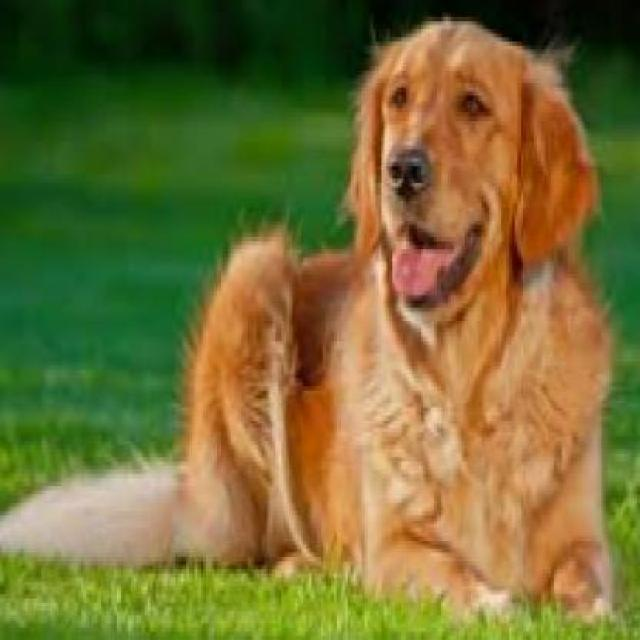Dog: (3, 16, 620, 638)
